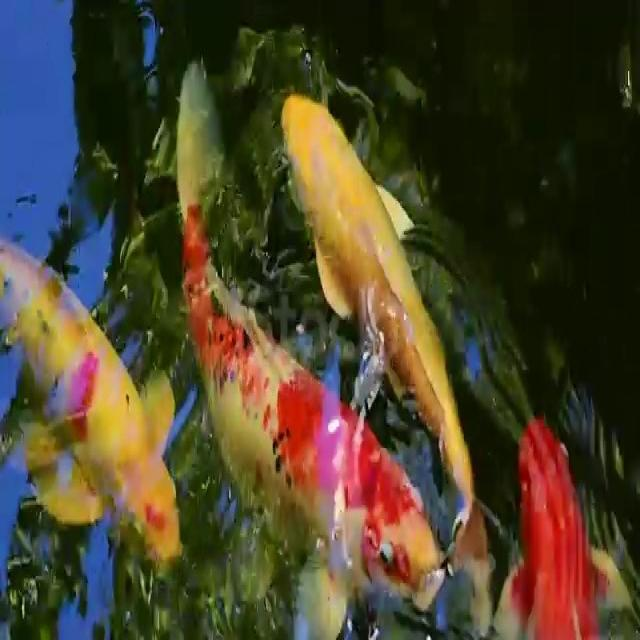fish: (184, 122, 457, 612), (278, 70, 486, 490), (1, 206, 189, 586), (496, 418, 616, 640)
